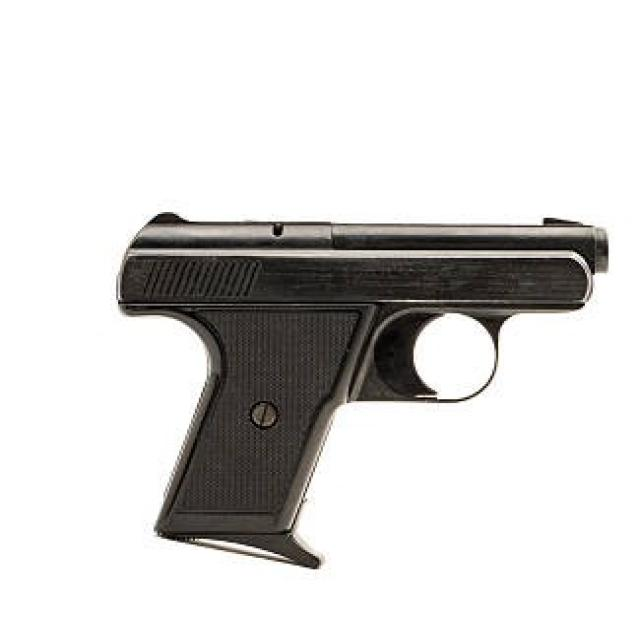pistol: (112, 205, 618, 579)
